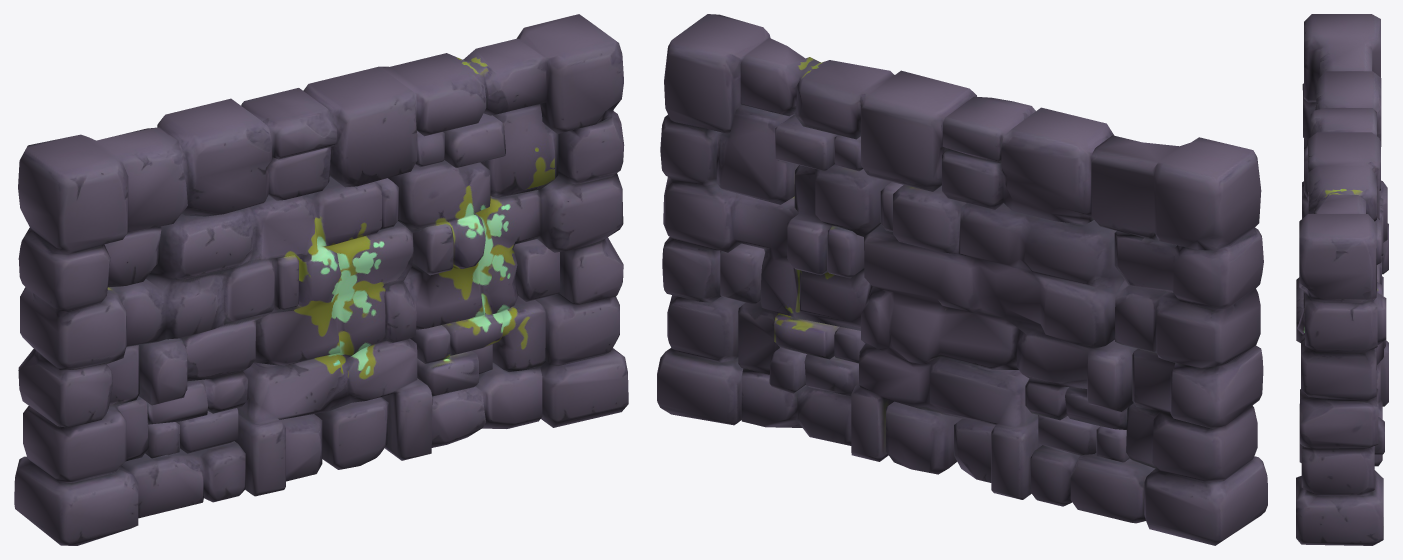
File: stone_wall_3d_model_1.fbx
3 renders of one model, left to right at view 1: azimuth 30°, elevation 25°; view 2: azimuth 150°, elevation 25°; view 3: azimuth 270°, elevation 25°, orthographic. The views are drawn at different scales.
Parts seen in each view (by area): view 1: tripo_node_cb416404-42d6-4858-a21c-95b0e8972ca0; view 2: tripo_node_cb416404-42d6-4858-a21c-95b0e8972ca0; view 3: tripo_node_cb416404-42d6-4858-a21c-95b0e8972ca0.
Part boxes in pixels (bbox=[...]): tripo_node_cb416404-42d6-4858-a21c-95b0e8972ca0: bbox=[14, 14, 628, 545]; tripo_node_cb416404-42d6-4858-a21c-95b0e8972ca0: bbox=[657, 14, 1267, 545]; tripo_node_cb416404-42d6-4858-a21c-95b0e8972ca0: bbox=[1296, 14, 1388, 545].
Size of the model in its own units: 0.9995 by 0.6206 by 0.1694.
1 material, 1 textured.
